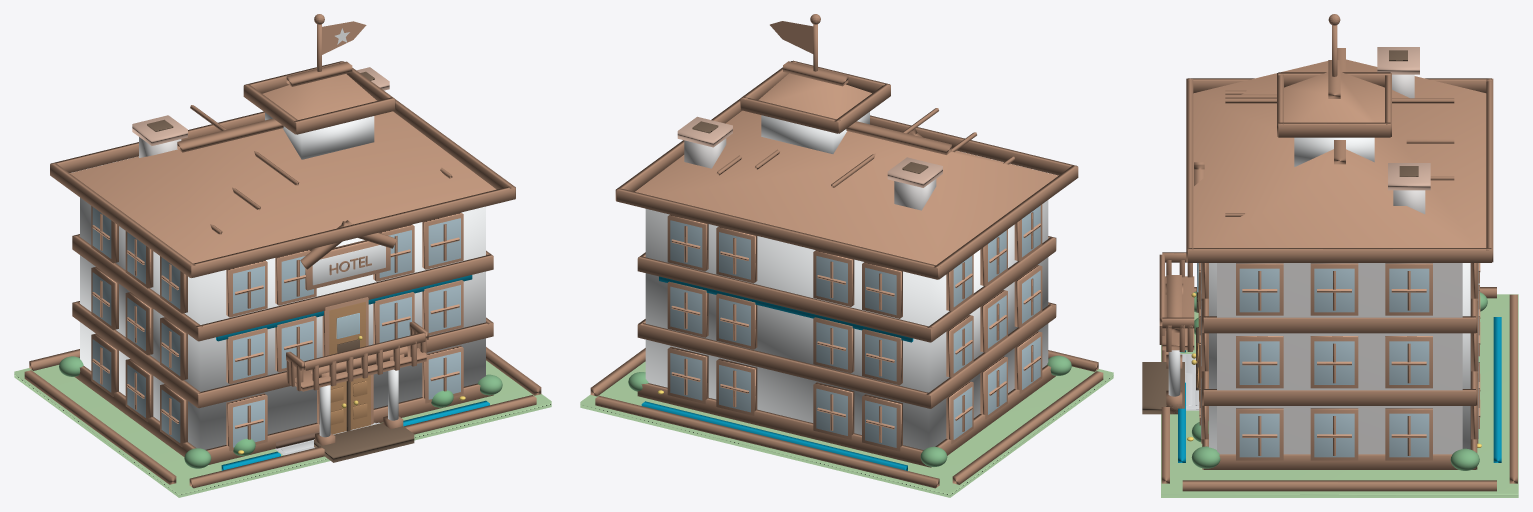
The model's file is hotel_detallado_brown.glb.
The picture shows the model from 3 angles, left to right: view 1: azimuth 30°, elevation 25°; view 2: azimuth 150°, elevation 25°; view 3: azimuth 270°, elevation 25°; orthographic projection. The views are drawn at different scales.
Parts seen in each view (by area): view 1: Hotel_Techo_Principal, Hotel_Cuerpo_Principal, Hotel_Grama_Base, Hotel_Techo_Principal_Fascia_Frontal, Hotel_Zocalo_Frontal_Nivel_3, Hotel_Torre_Central_Techo, Hotel_Zocalo_Frontal_Nivel_2, Hotel_Techo_Principal_Fascia_Izquierda, Hotel_Zocalo_Frontal_Nivel_1, Hotel_Torre_Central_Pared, Hotel_Entrada_Escalon, Hotel_Zocalo_Izquierdo_Nivel_2 (+57 smaller); view 2: Hotel_Techo_Principal, Hotel_Cuerpo_Principal, Hotel_Grama_Base, Hotel_Zocalo_Trasero_Nivel_3, Hotel_Zocalo_Trasero_Nivel_2, Hotel_Techo_Principal_Fascia_Trasera, Hotel_Borde_Base_Trasero, Hotel_Zocalo_Trasero_Nivel_1, Hotel_Torre_Central_Techo, Hotel_Techo_Principal_Fascia_Izquierda, Hotel_Techo_Principal_Fascia_Frontal, Hotel_Zocalo_Izquierdo_Nivel_2 (+56 smaller); view 3: Hotel_Techo_Principal, Hotel_Pared_Lateral_Azulada, Hotel_Grama_Base, Hotel_Zocalo_Derecho_Nivel_3, Hotel_Techo_Principal_Fascia_Derecha, Hotel_Zocalo_Derecho_Nivel_2, Hotel_Torre_Central_Techo, Hotel_Borde_Base_Lateral_Derecho, Hotel_Zocalo_Derecho_Nivel_1, Hotel_Cuerpo_Principal, Hotel_Torre_Central_Techo_Fascia_Derecha, Hotel_Borde_Base_Trasero (+40 smaller).
Part boxes in pixels (x1,y1,x2,y2): Hotel_Techo_Principal: [70, 111, 496, 263]; Hotel_Cuerpo_Principal: [80, 197, 485, 449]; Hotel_Grama_Base: [14, 360, 551, 497]; Hotel_Techo_Principal_Fascia_Frontal: [191, 186, 515, 277]; Hotel_Zocalo_Frontal_Nivel_3: [196, 254, 493, 341]; Hotel_Torre_Central_Techo: [262, 74, 376, 119]; Hotel_Zocalo_Frontal_Nivel_2: [198, 322, 493, 408]; Hotel_Techo_Principal_Fascia_Izquierda: [50, 163, 195, 277]; Hotel_Zocalo_Frontal_Nivel_1: [206, 383, 493, 464]; Hotel_Torre_Central_Pared: [265, 112, 374, 159]; Hotel_Entrada_Escalon: [314, 423, 414, 462]; Hotel_Zocalo_Izquierdo_Nivel_2: [72, 302, 200, 407]; Hotel_Techo_Principal: [635, 110, 1058, 265]; Hotel_Cuerpo_Principal: [645, 200, 1048, 449]; Hotel_Grama_Base: [580, 361, 1113, 497]; Hotel_Zocalo_Trasero_Nivel_3: [637, 256, 932, 342]; Hotel_Zocalo_Trasero_Nivel_2: [637, 323, 930, 408]; Hotel_Techo_Principal_Fascia_Trasera: [616, 188, 937, 279]; Hotel_Borde_Base_Trasero: [595, 395, 939, 488]; Hotel_Zocalo_Trasero_Nivel_1: [637, 383, 930, 467]; Hotel_Torre_Central_Techo: [758, 73, 871, 119]; Hotel_Techo_Principal_Fascia_Izquierda: [934, 165, 1078, 279]; Hotel_Techo_Principal_Fascia_Frontal: [870, 115, 1077, 175]; Hotel_Zocalo_Izquierdo_Nivel_2: [926, 303, 1055, 408]; Hotel_Techo_Principal: [1193, 59, 1486, 247]; Hotel_Pared_Lateral_Azulada: [1217, 263, 1462, 454]; Hotel_Grama_Base: [1161, 294, 1518, 497]; Hotel_Zocalo_Derecho_Nivel_3: [1203, 316, 1475, 333]; Hotel_Techo_Principal_Fascia_Derecha: [1187, 248, 1491, 262]; Hotel_Zocalo_Derecho_Nivel_2: [1203, 389, 1475, 405]; Hotel_Torre_Central_Techo: [1284, 72, 1384, 122]; Hotel_Borde_Base_Lateral_Derecho: [1182, 480, 1496, 491]; Hotel_Zocalo_Derecho_Nivel_1: [1203, 454, 1475, 469]; Hotel_Cuerpo_Principal: [1209, 263, 1470, 449]; Hotel_Torre_Central_Techo_Fascia_Derecha: [1278, 122, 1390, 137]; Hotel_Borde_Base_Trasero: [1509, 294, 1517, 483].
Size of the model in its own units: 1.75 by 1.67 by 1.41.
